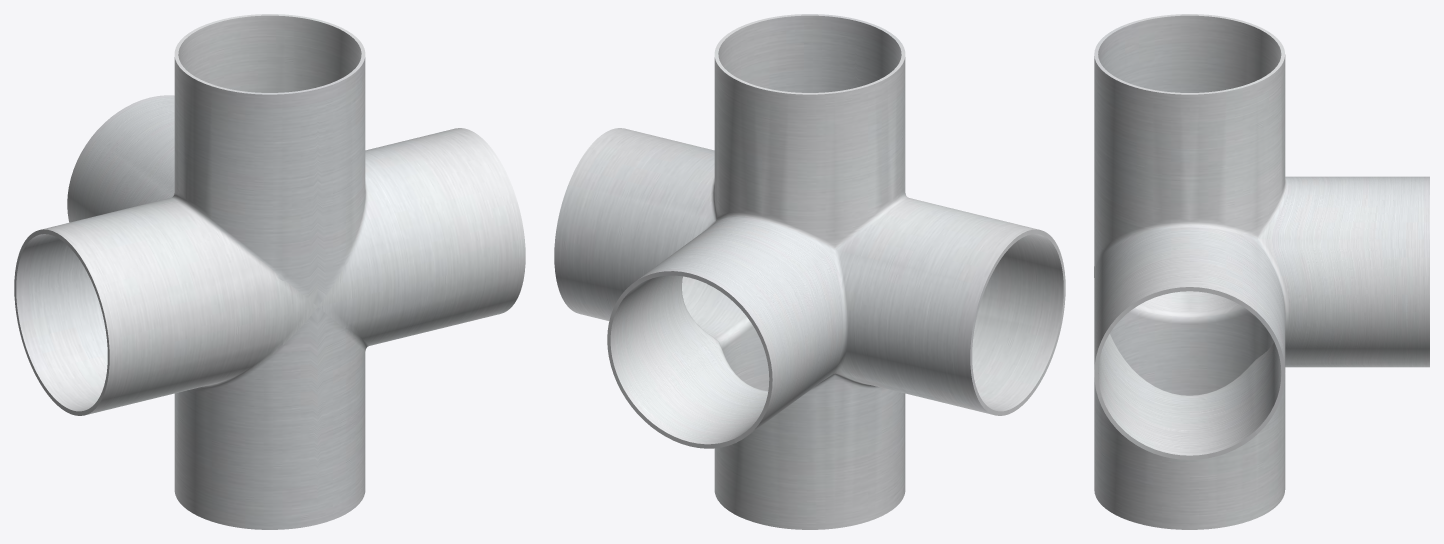
Rendered from 5TConnectorV1.0.glb.
3 views of the same model, side by side, from view 1: azimuth 30°, elevation 25°; view 2: azimuth 150°, elevation 25°; view 3: azimuth 270°, elevation 25° (orthographic).
Parts seen in each view (by area): view 1: 5TConnector; view 2: 5TConnector; view 3: 5TConnector.
Part boxes in pixels (left/top/right/bottom): 5TConnector: left=14, top=14, right=525, bottom=529; 5TConnector: left=554, top=14, right=1065, bottom=529; 5TConnector: left=1094, top=14, right=1429, bottom=529.
Size of the model in its own units: 3.99 by 3.99 by 2.79.
Materials: 1 (1 with a texture image).
